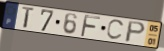6: (63, 12, 79, 36)
7: (39, 8, 55, 32)
C: (105, 19, 126, 41)
F: (79, 13, 102, 38)
P: (123, 20, 147, 44)
T: (21, 6, 36, 30)
